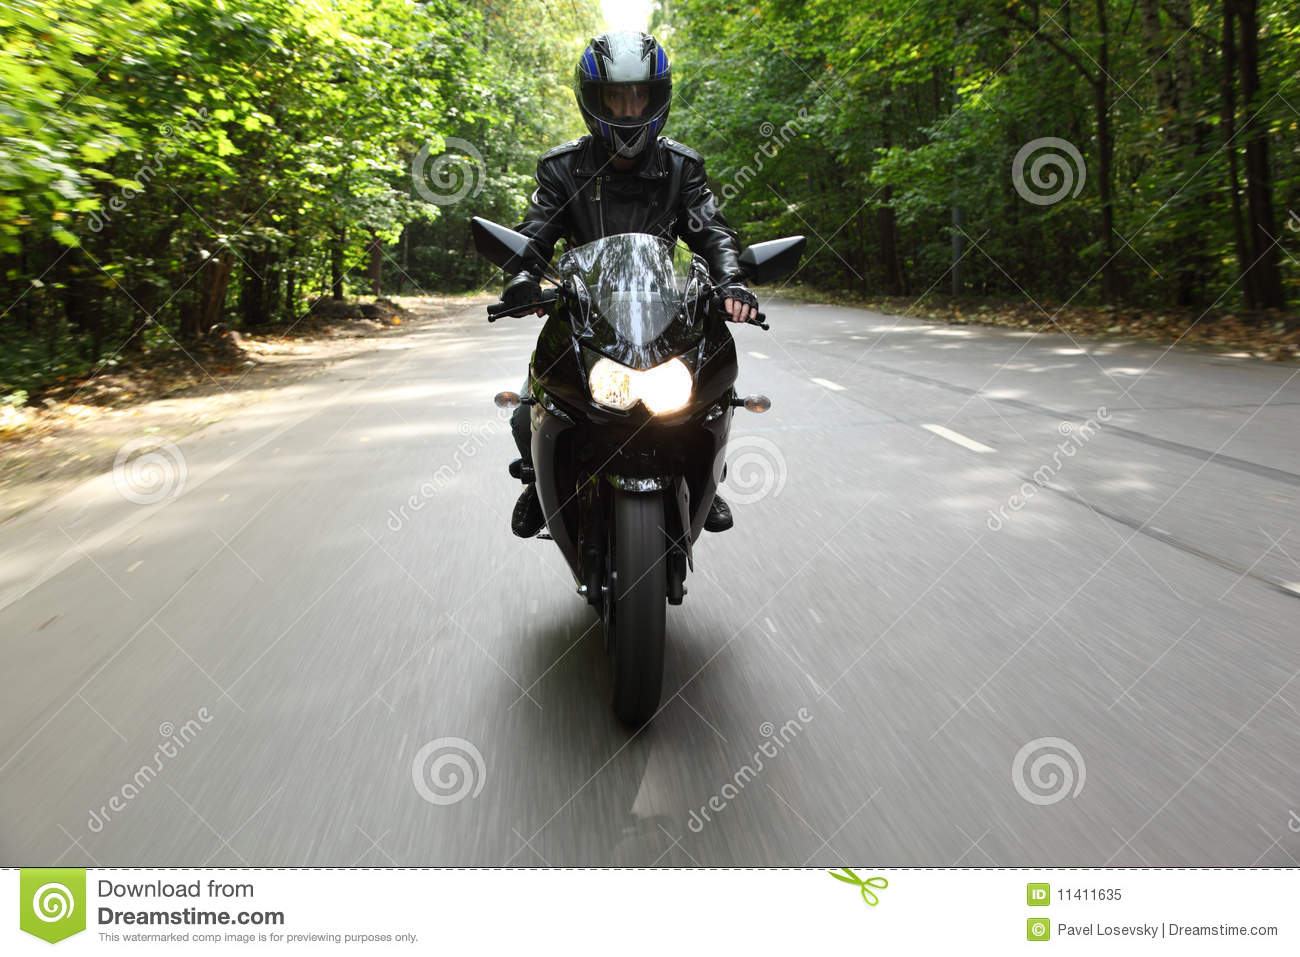helmet: (580, 36, 677, 146)
